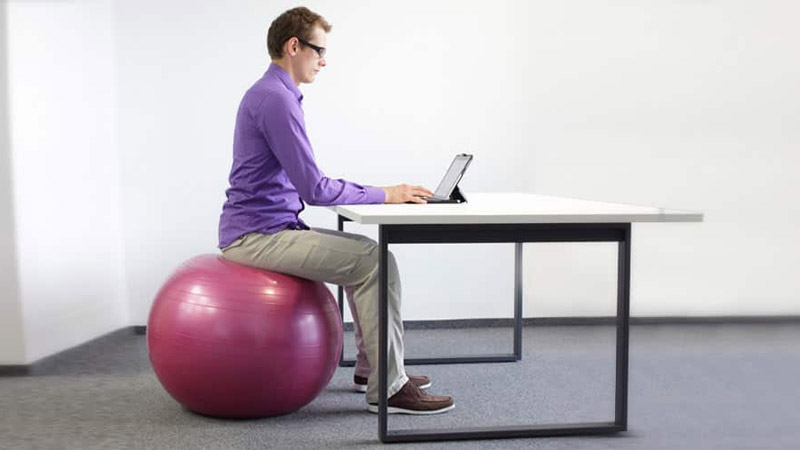yogaball: (142, 247, 345, 429)
